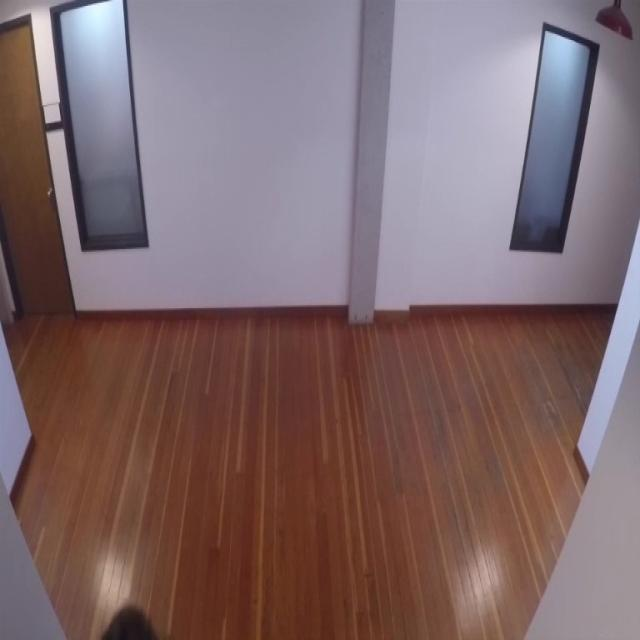Stupid: (100, 603, 159, 638)
